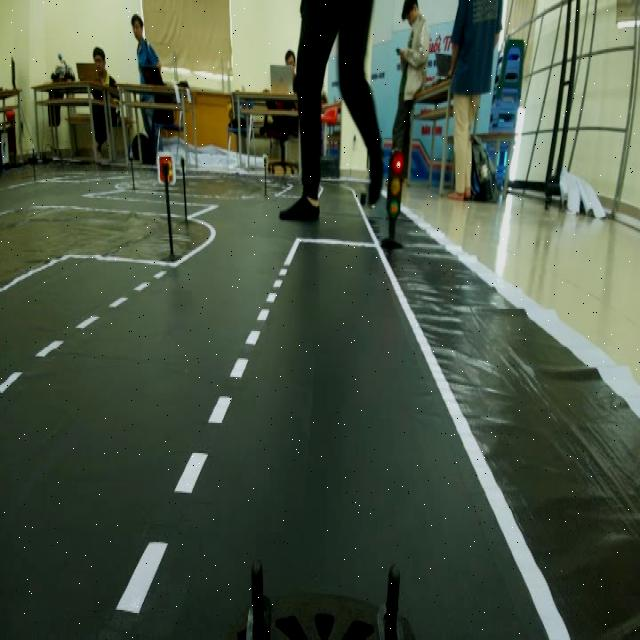trafficlight: (371, 144, 416, 258)
